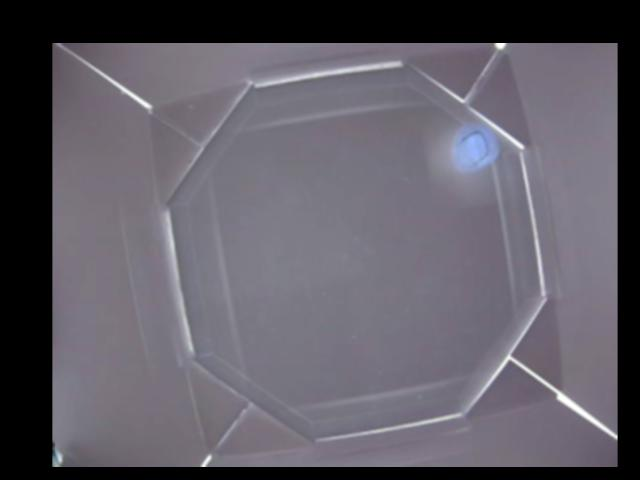Pebble: (449, 124, 501, 171)
